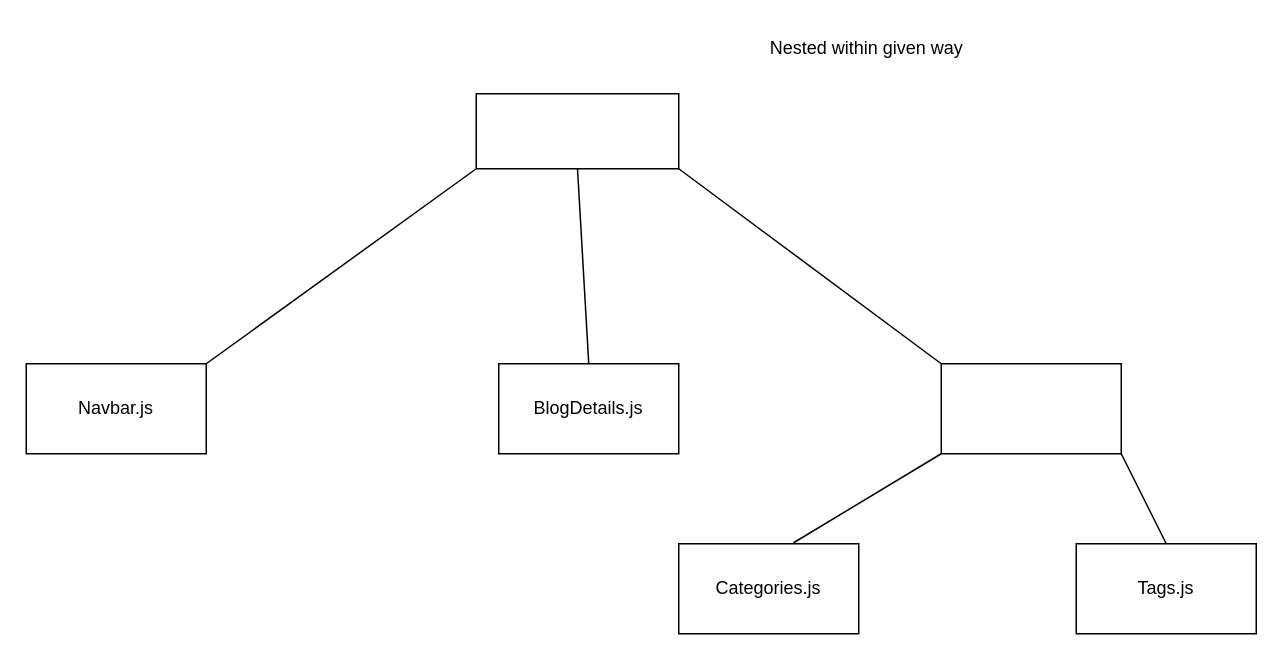
This 1283x660 diagram has some shape labels left out. The centre of each missing label's shape, as x and y in pixels:
App.js root component: (577,130)
Sidebar.js: (1030,408)
